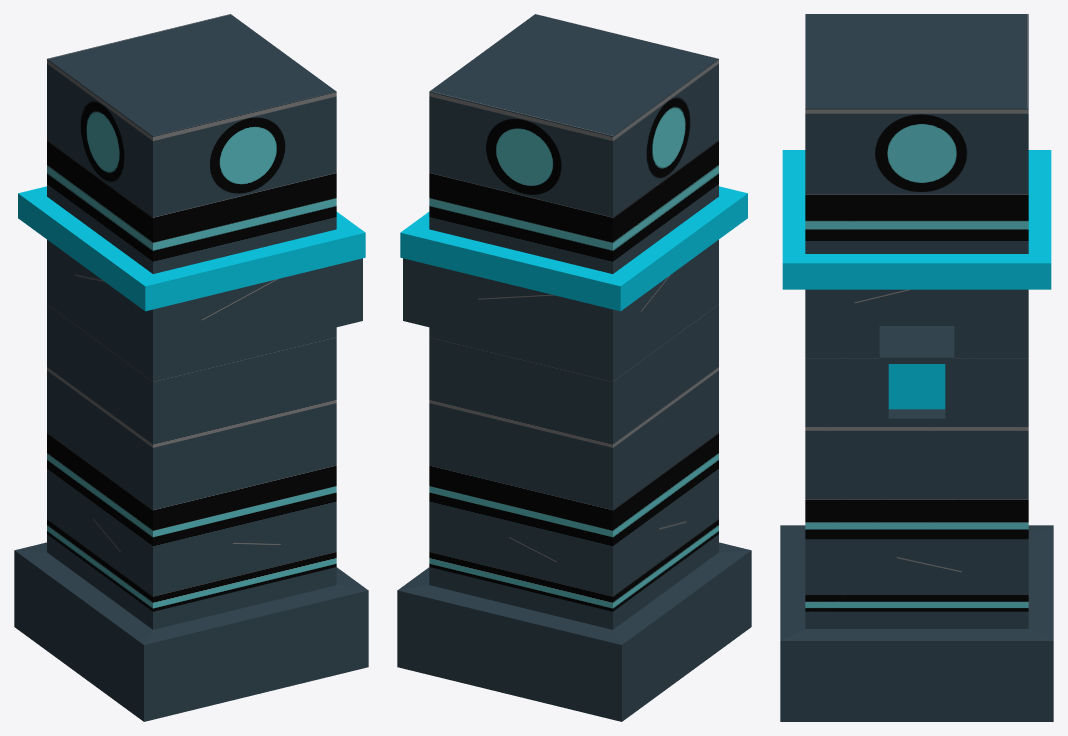
Rendered from EnemyTurret.FBX.
3 views of the same model, side by side, from view 1: azimuth 30°, elevation 25°; view 2: azimuth 150°, elevation 25°; view 3: azimuth 270°, elevation 25° (orthographic). The views are drawn at different scales.
Parts seen in each view (by area): view 1: totem001; view 2: totem001; view 3: totem001.
Part boxes in pixels (x1=…): totem001: x1=14, y1=14, x2=368, y2=721; totem001: x1=397, y1=14, x2=751, y2=721; totem001: x1=780, y1=14, x2=1053, y2=721.
Size of the model in its own units: 40.66 by 83.53 by 34.31.
